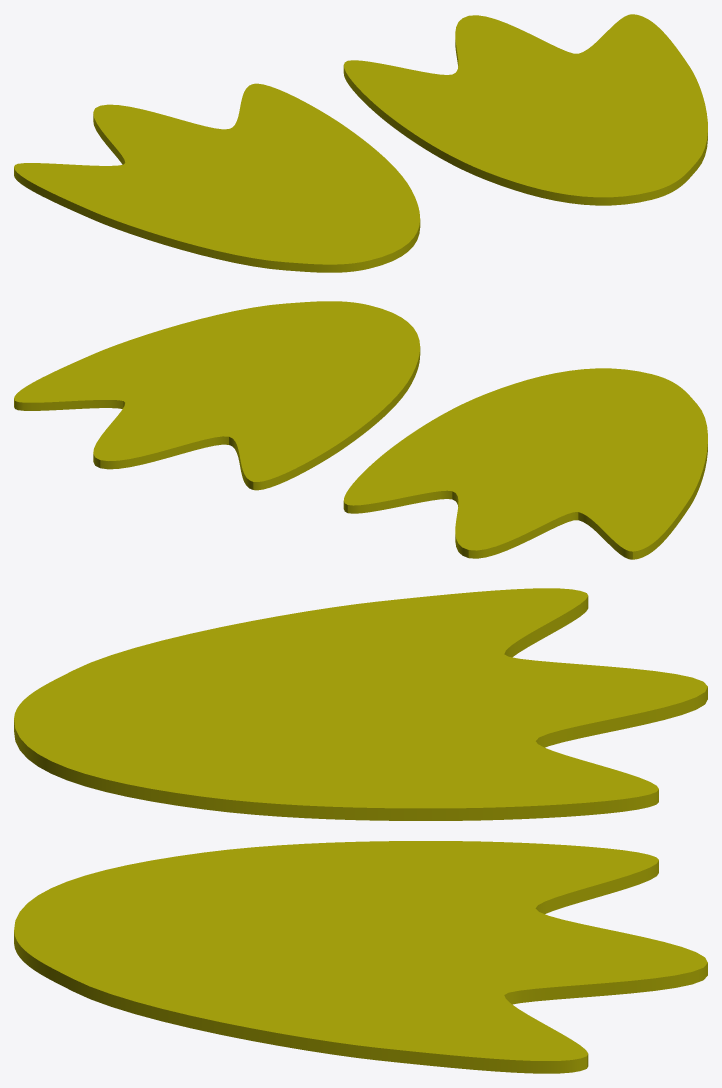
File: mark.glb
The picture shows the model from 3 angles, top to bottom: view 1: azimuth 30°, elevation 25°; view 2: azimuth 150°, elevation 25°; view 3: azimuth 270°, elevation 25°; orthographic projection. The views are drawn at different scales.
Visible parts, largest first — view 1: BézierCurve; view 2: BézierCurve; view 3: BézierCurve.
Part boxes in pixels (x1=…): BézierCurve: x1=14, y1=14, x2=707, y2=272; BézierCurve: x1=14, y1=301, x2=707, y2=559; BézierCurve: x1=14, y1=588, x2=707, y2=1073.
Bounding box in the file's own units: 1.98 × 0.0246 × 1.23.
